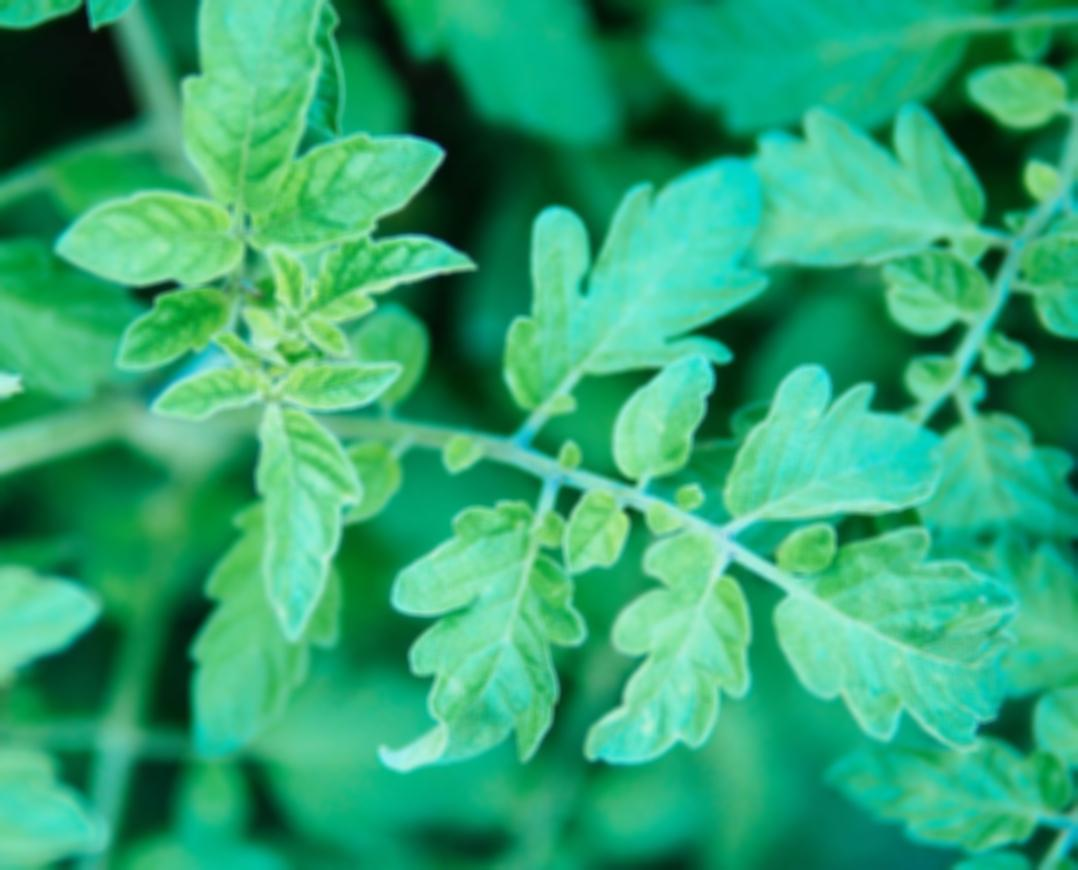Tomato leaf: (498, 149, 760, 439), (379, 481, 585, 796), (768, 522, 1021, 755), (719, 362, 959, 539), (602, 511, 740, 811), (234, 121, 464, 255), (183, 0, 313, 230), (247, 390, 359, 643), (53, 192, 242, 292)
